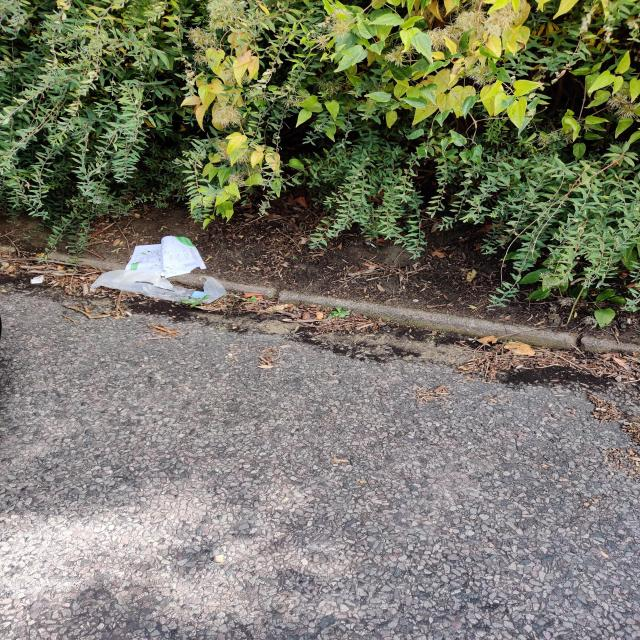litter: (89, 270, 228, 303), (126, 236, 207, 277), (31, 276, 43, 284)
